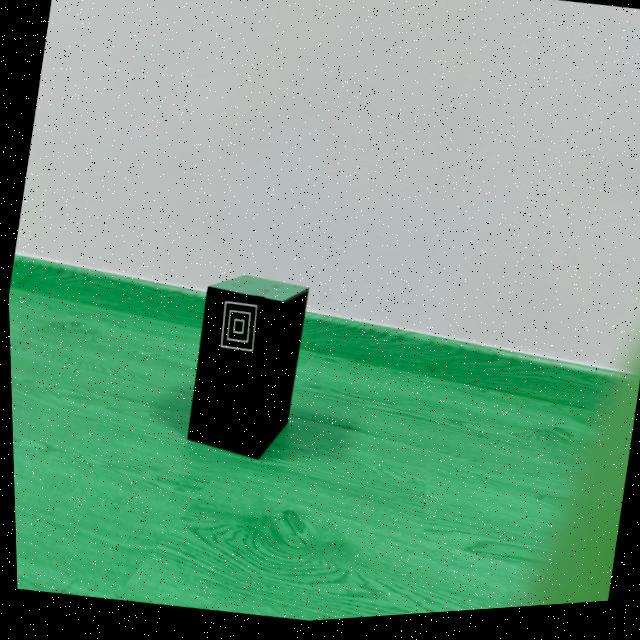BULLSEYE: (210, 294, 263, 364)
